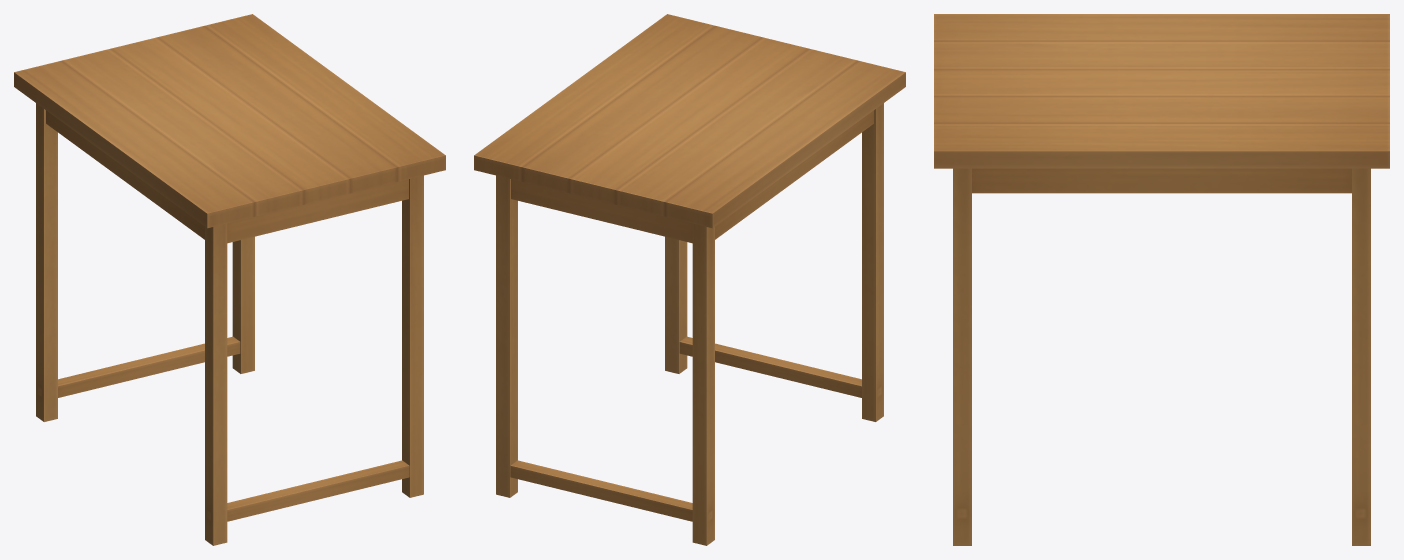
The model's file is jsf_SideTable_02.fbx.
3 renders of one model, left to right at view 1: azimuth 30°, elevation 25°; view 2: azimuth 150°, elevation 25°; view 3: azimuth 270°, elevation 25°, orthographic. The views are drawn at different scales.
Visible parts, largest first — view 1: jsf_SideTable_02; view 2: jsf_SideTable_02; view 3: jsf_SideTable_02.
Part boxes in pixels (box(x1,y1,x2,y2)): jsf_SideTable_02: box(14, 14, 445, 545); jsf_SideTable_02: box(474, 14, 905, 545); jsf_SideTable_02: box(934, 14, 1389, 545).
Size of the model in its own units: 51.19 by 70 by 71.81.
